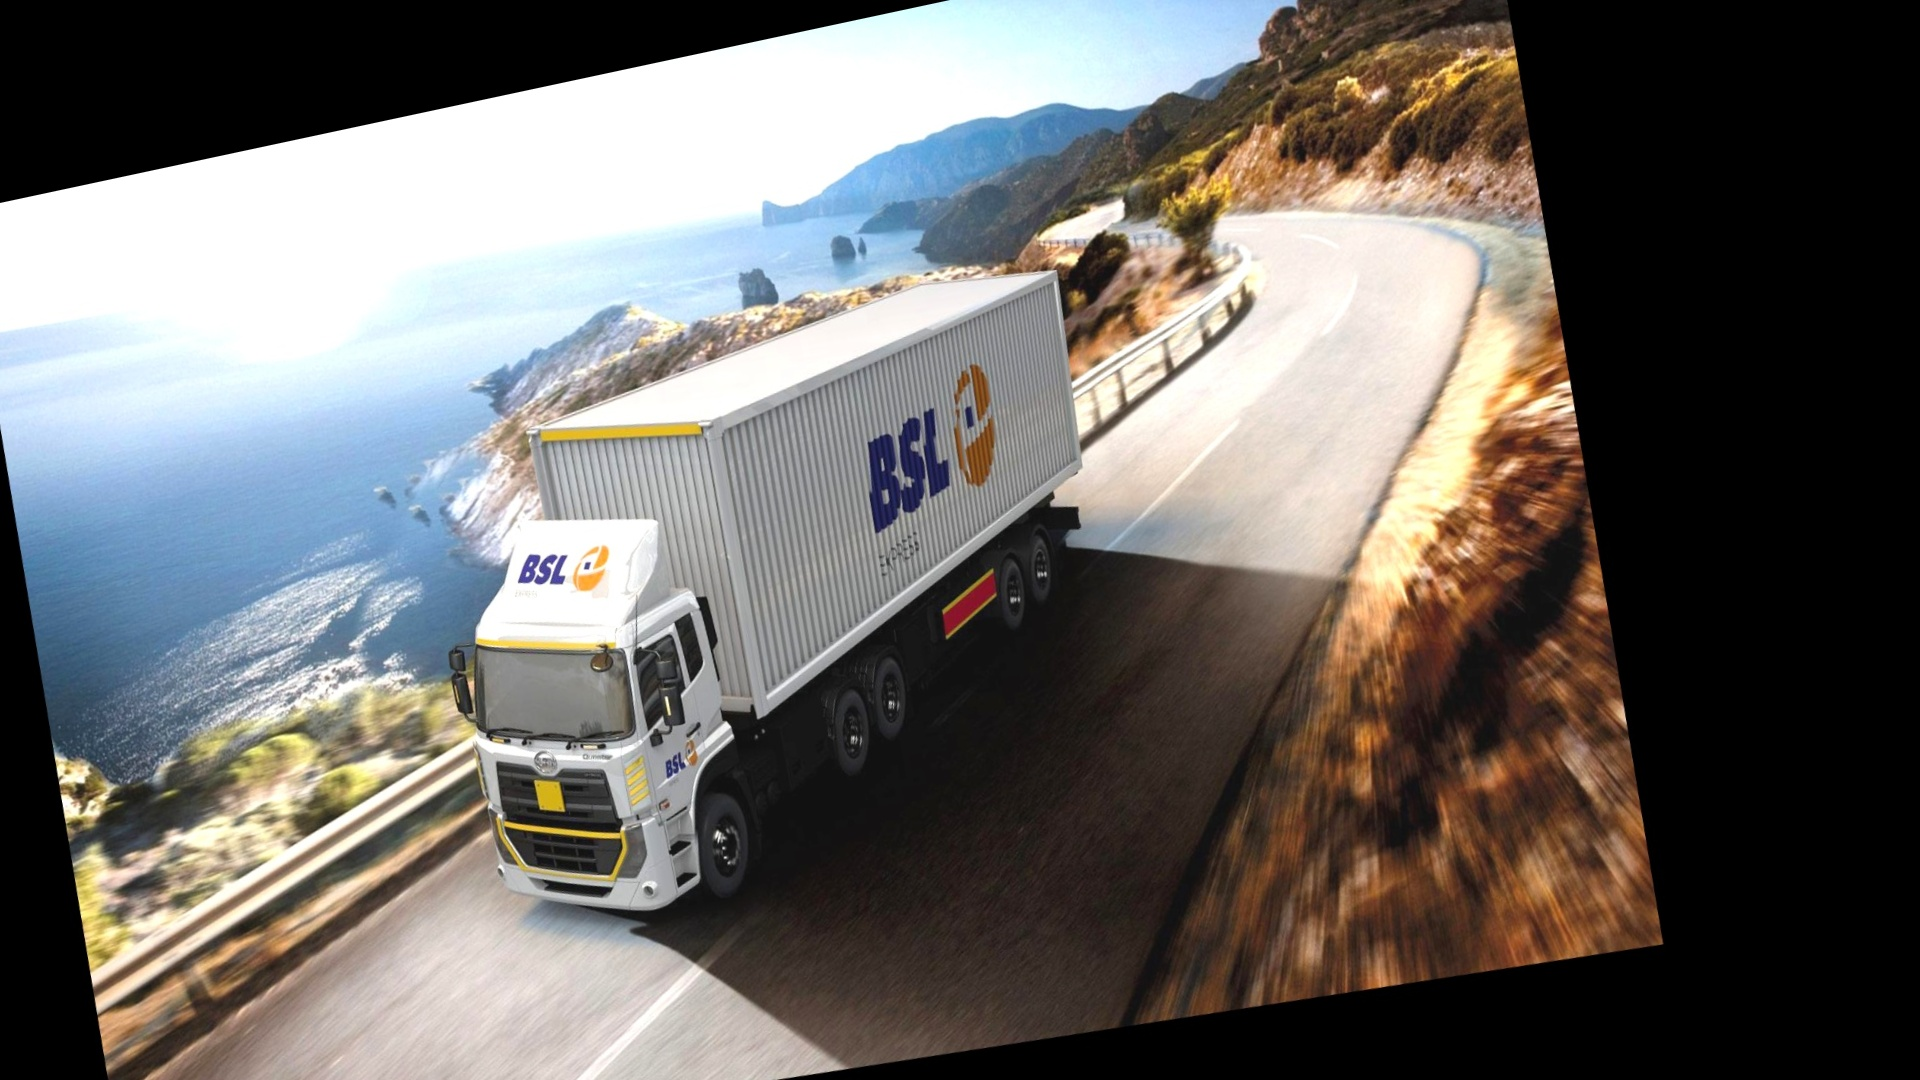truck: (385, 228, 1180, 980)
